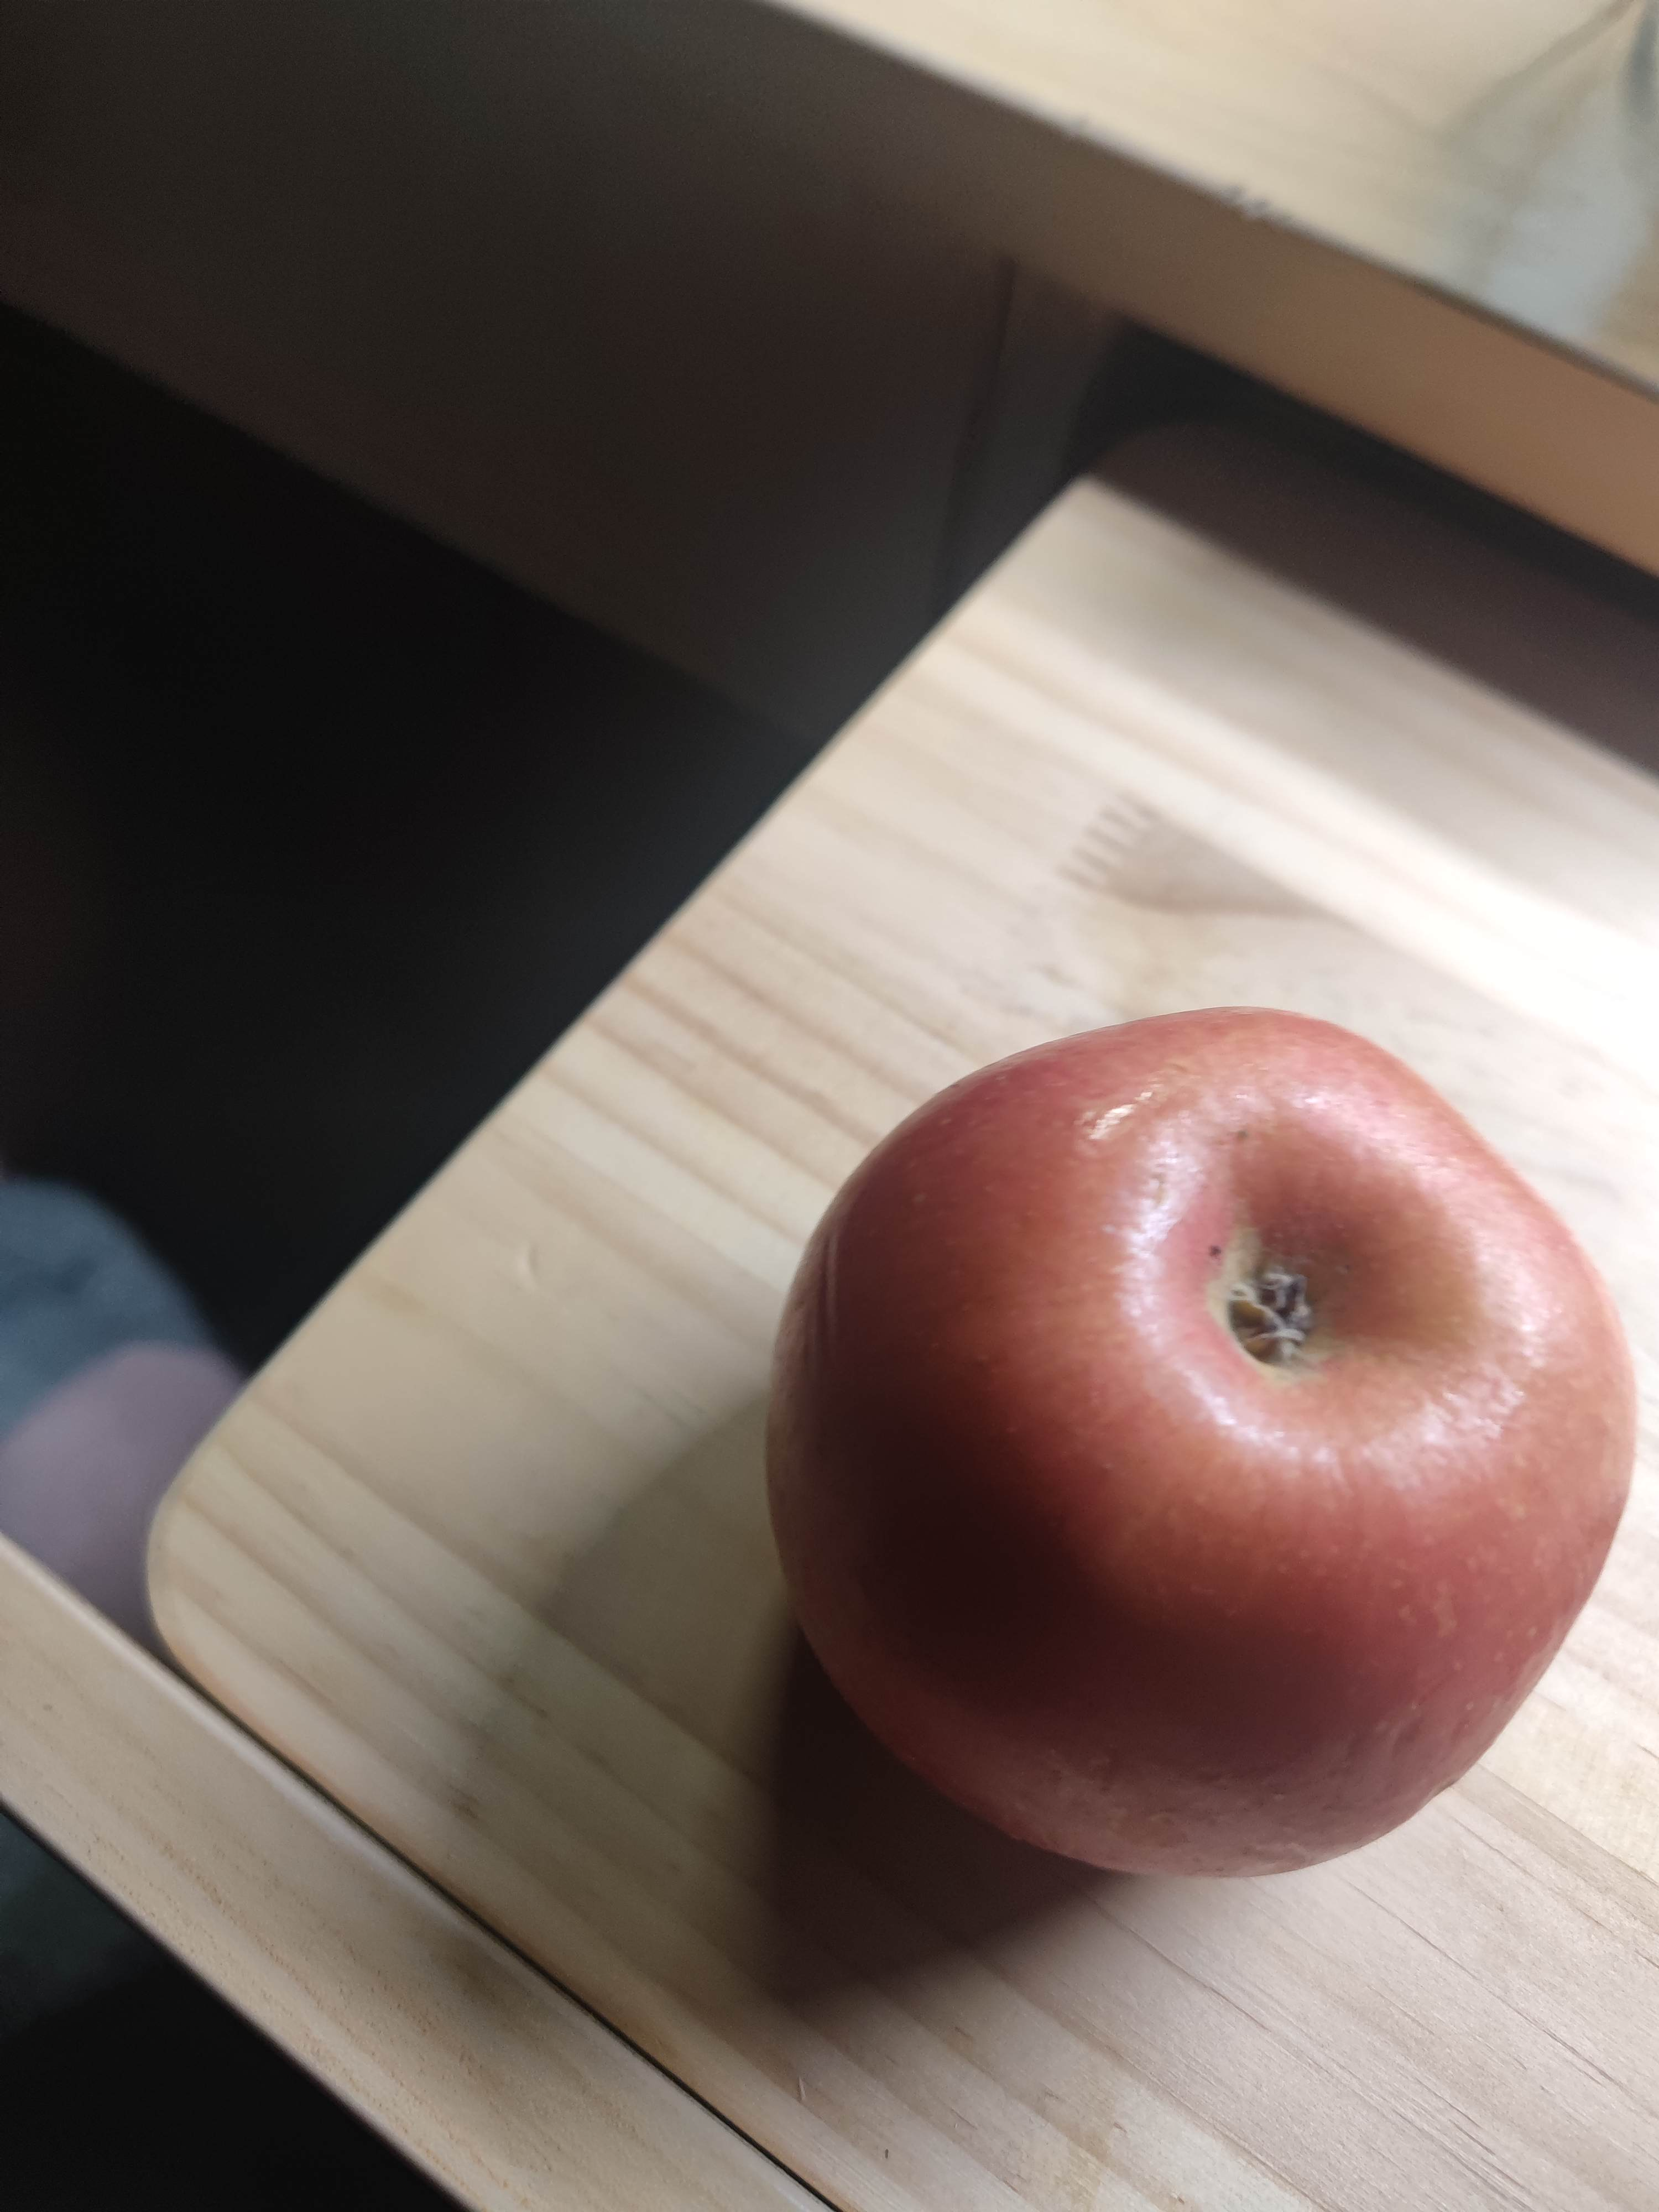apple: (767, 1012, 1636, 1918)
